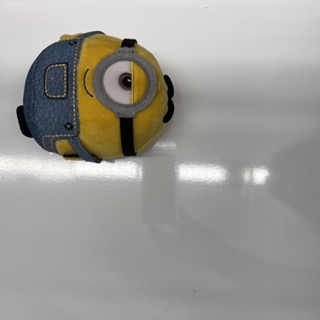minion: (17, 31, 176, 164)
